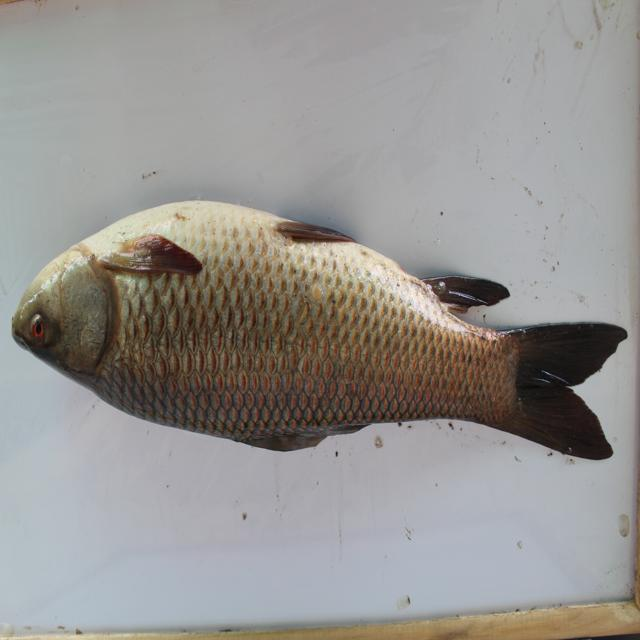Rohu: (9, 204, 631, 475)
